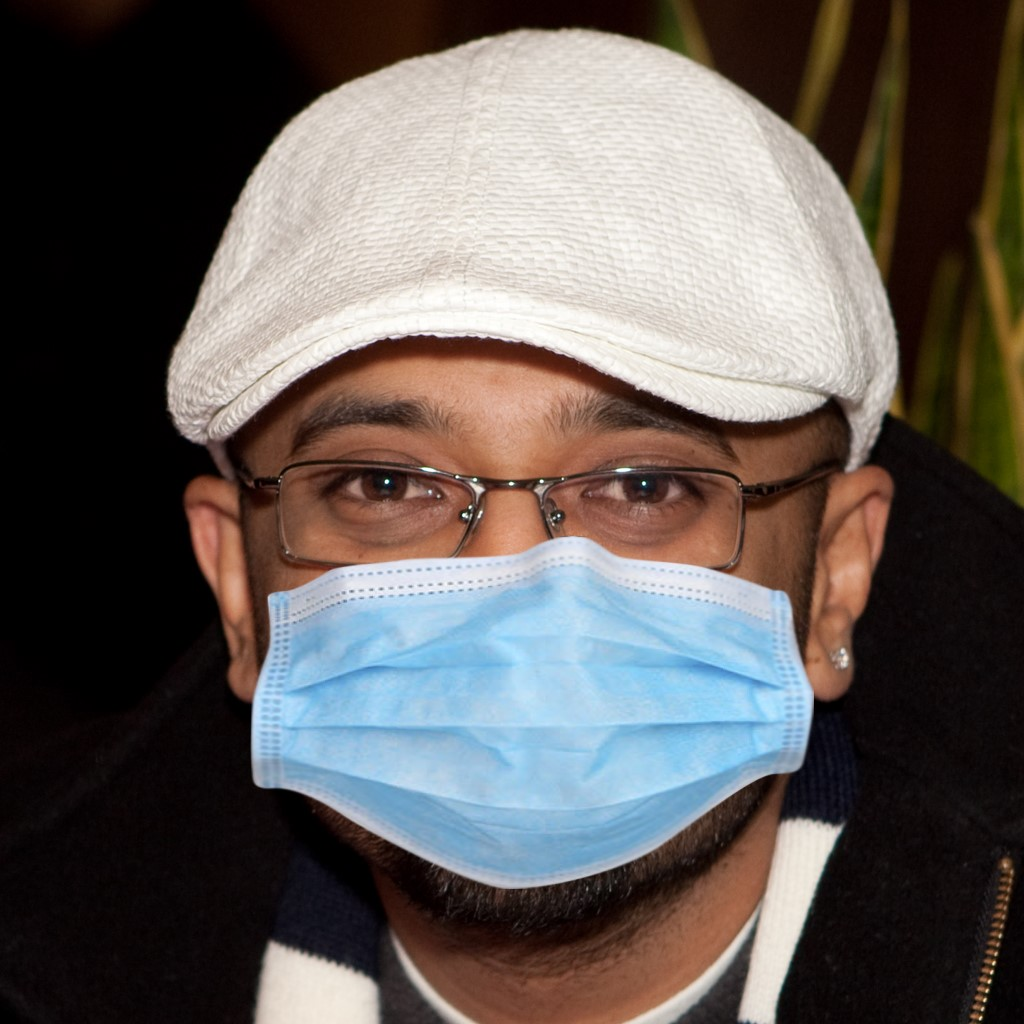con_mascara: (234, 281, 819, 924)
